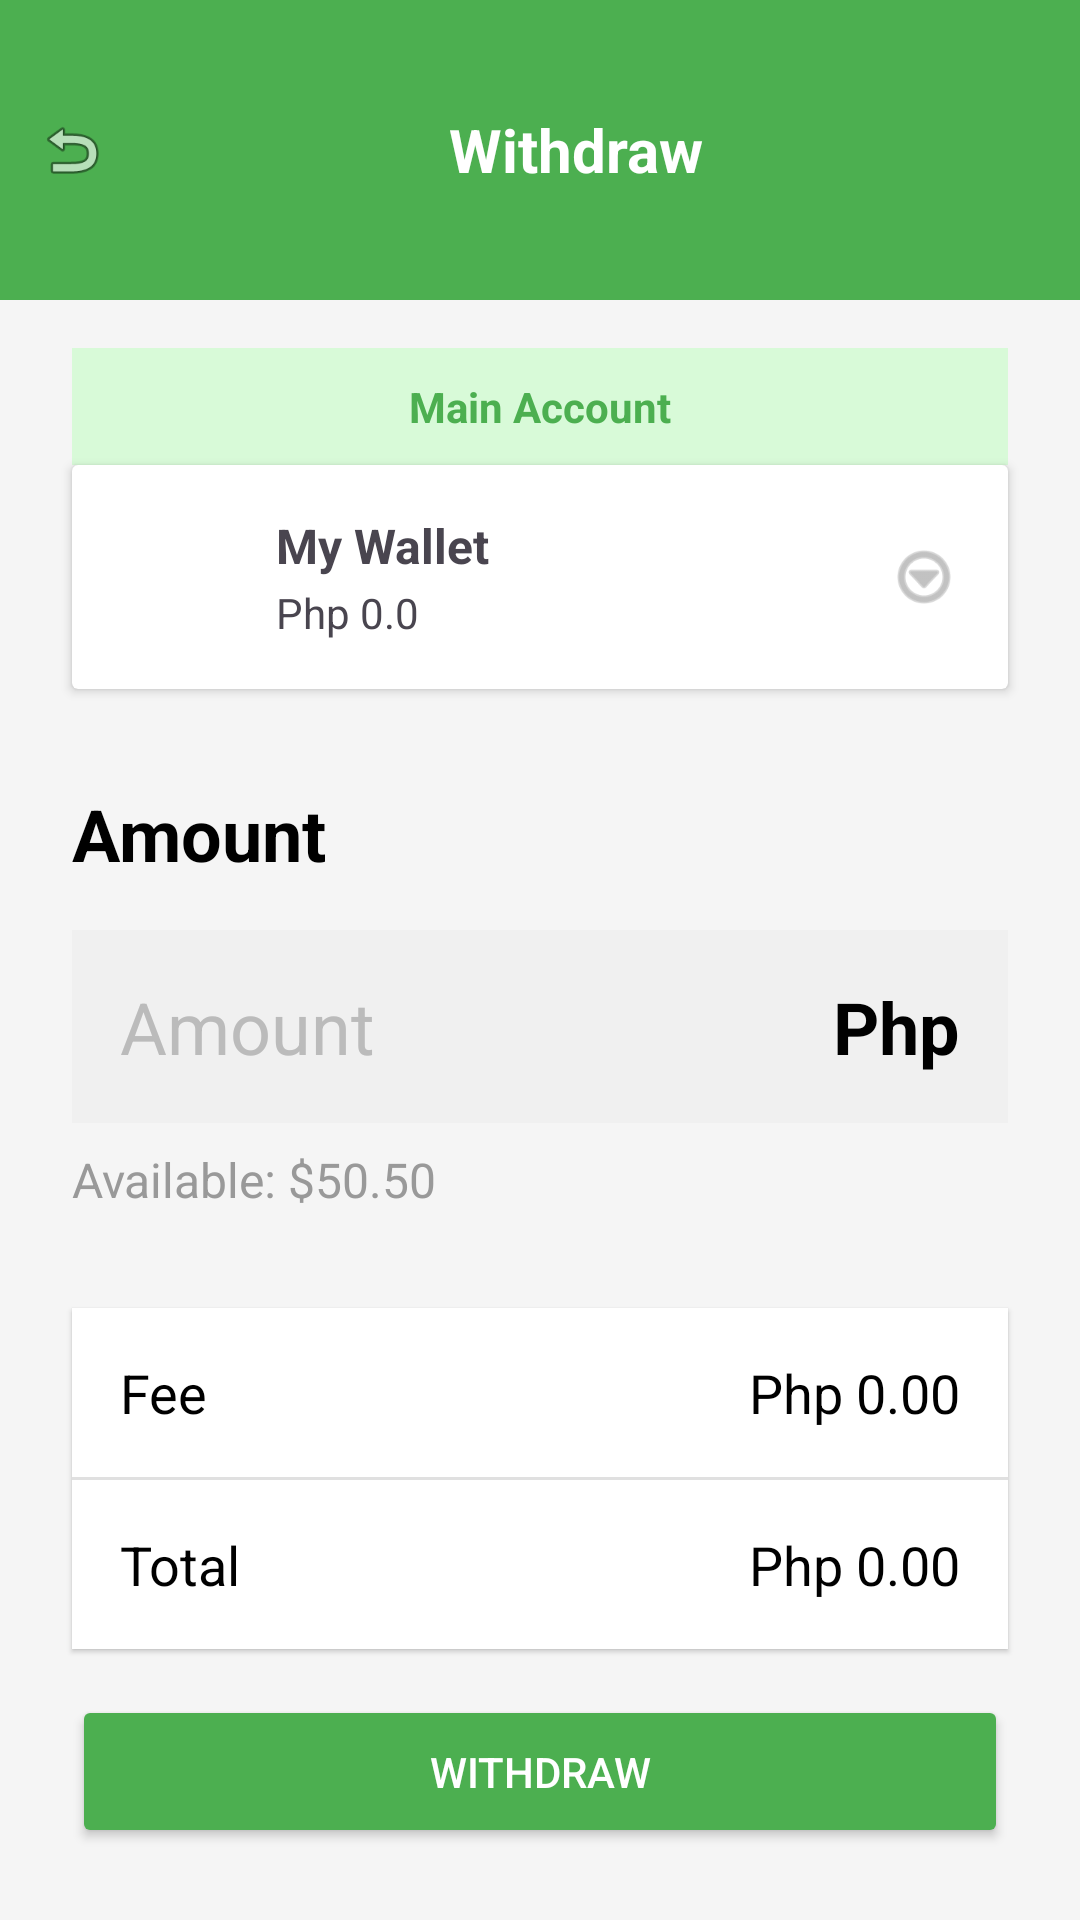

Locate icon controls on the screen. Image size 1080 × 1920, boxes as (x1, y1, x2, y2).
revert: (47, 127, 99, 174)
